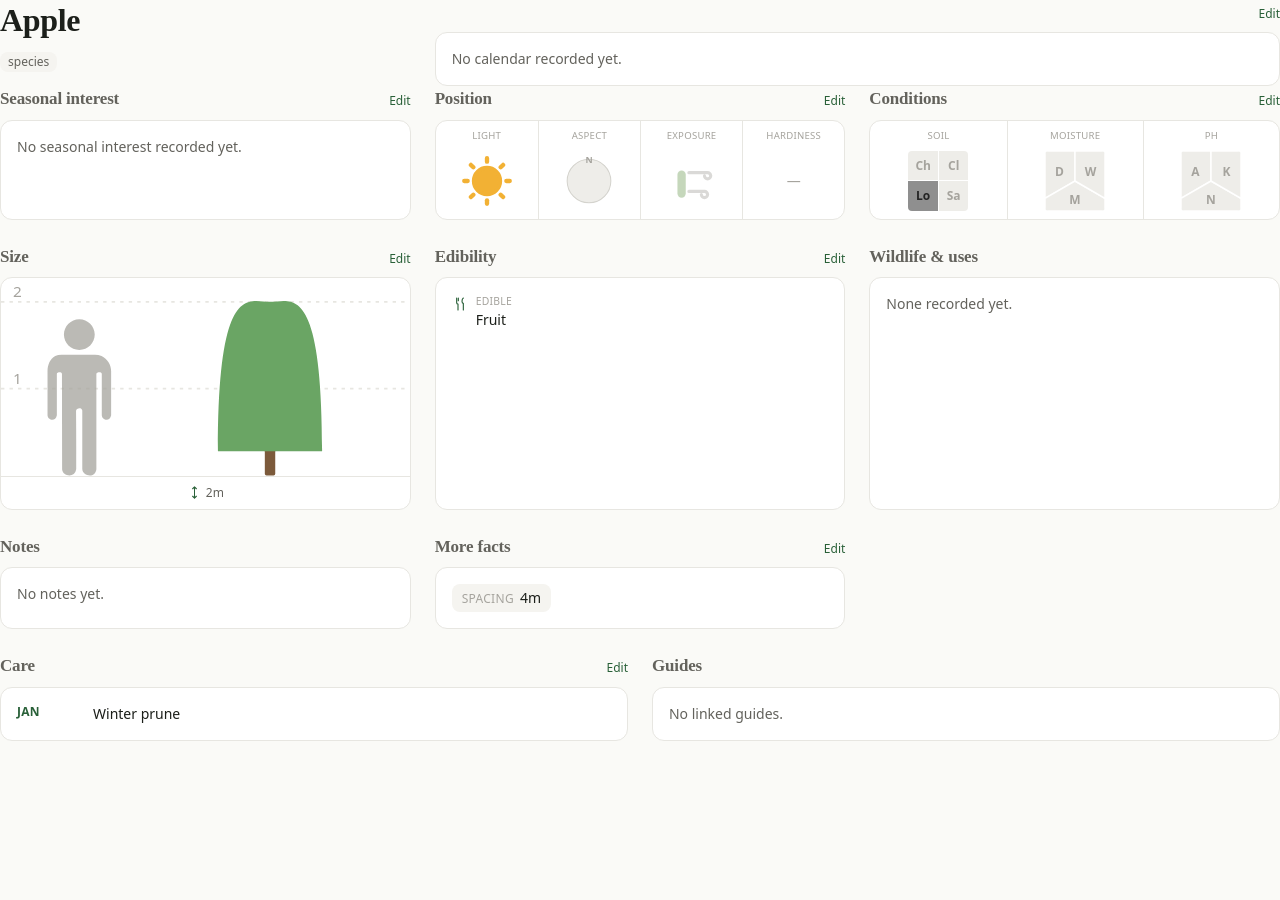
Test: CheatsheetContent edit orchestration › the Position card Edit button opens the Edit position editor
Click the button "Edit" in the row of "Position". click: {"x": 835, "y": 101}
box: [824,93,845,109]
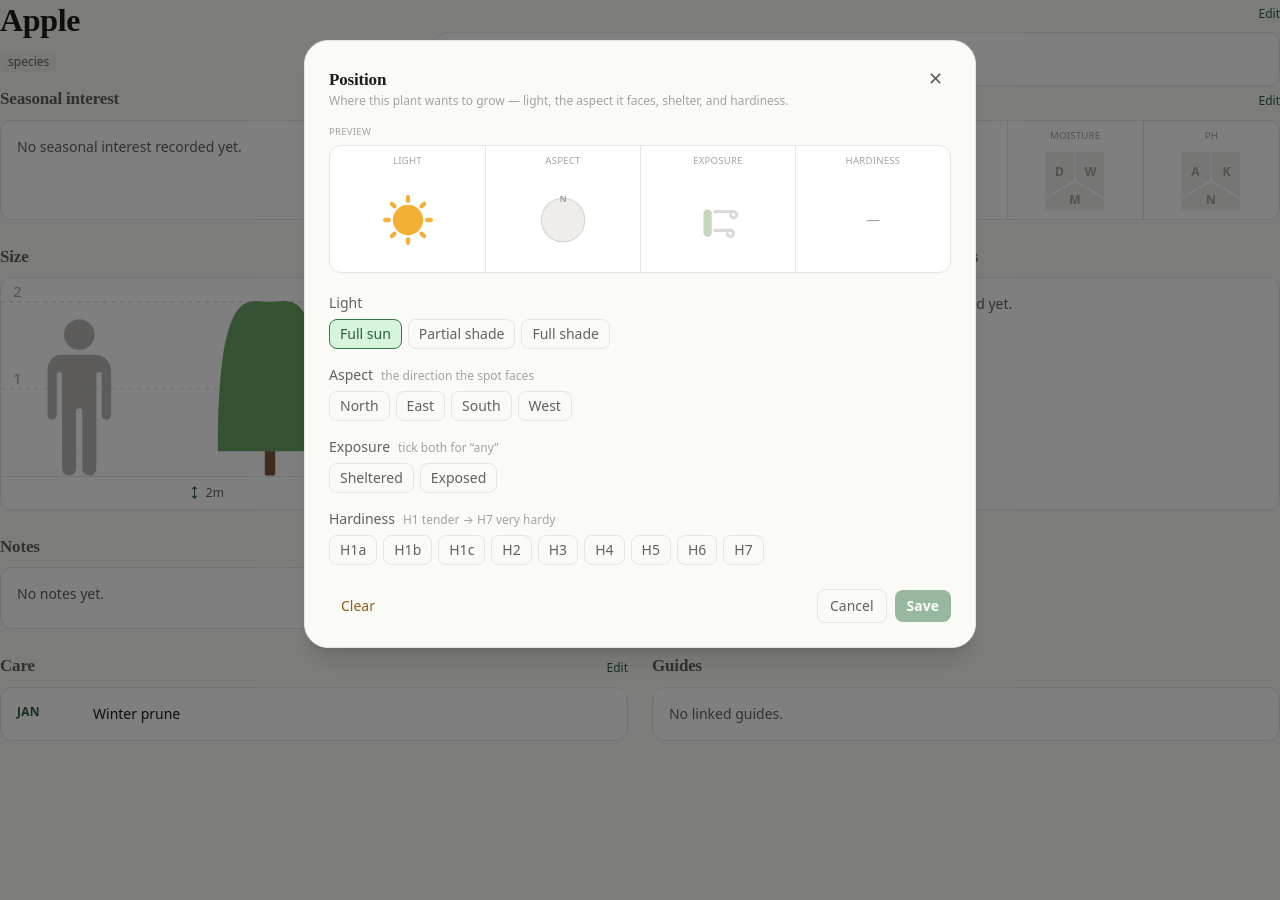
Expected: the dialog named "Edit position" is shown, [304,40,976,648]
